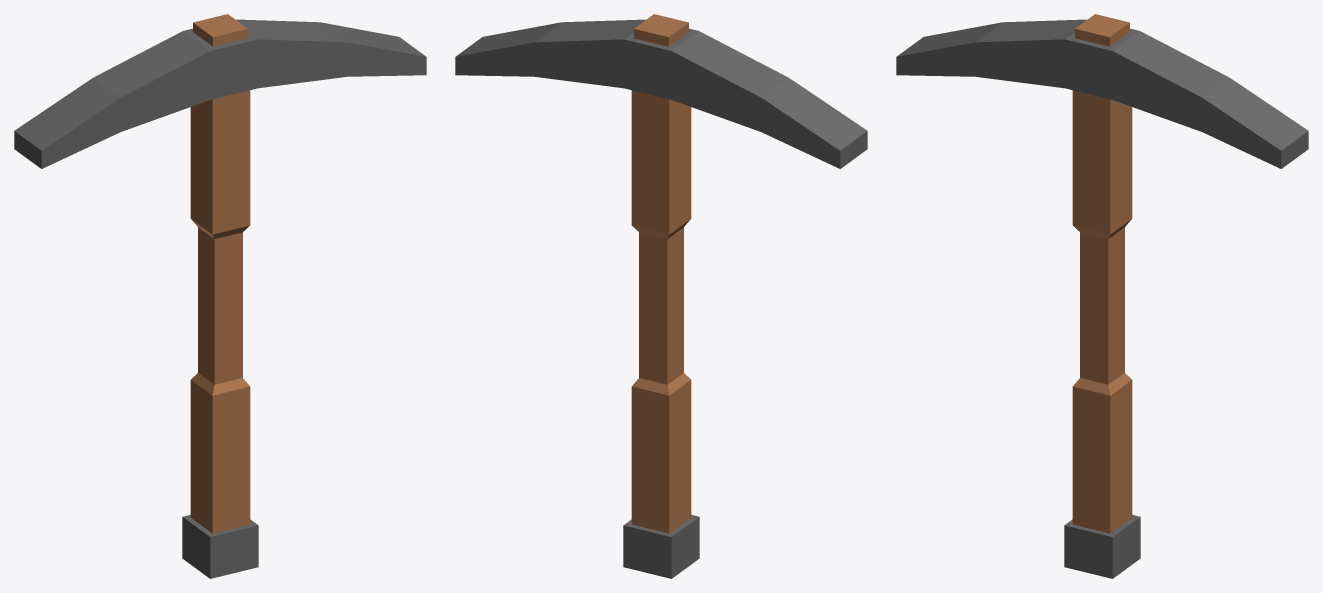
The model's file is Pickaxe.fbx.
3 renders of one model, left to right at view 1: azimuth 30°, elevation 25°; view 2: azimuth 150°, elevation 25°; view 3: azimuth 330°, elevation 25°, orthographic.
Visible parts, largest first — view 1: Pick; view 2: Pick; view 3: Pick.
Boxes of the visible parts, box(x1,y1,x2,y2) form: Pick: box(14, 14, 426, 578); Pick: box(455, 14, 867, 578); Pick: box(896, 14, 1308, 578).
Bounding box in the file's own units: 65.61 × 87.47 × 8.22.
